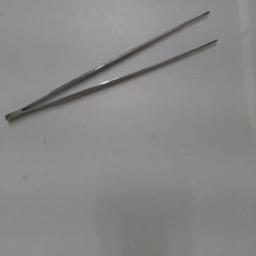DeBakey Dissector: (2, 2, 228, 130)
